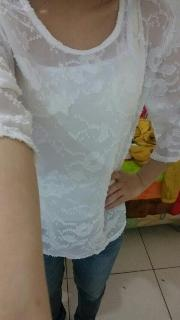long sleeve top: (1, 0, 180, 259)
trousers: (26, 203, 124, 320)
